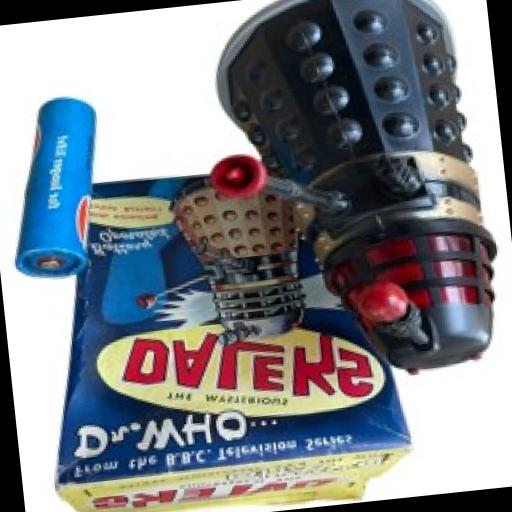dalek: (192, 0, 497, 399), (127, 178, 319, 362)
